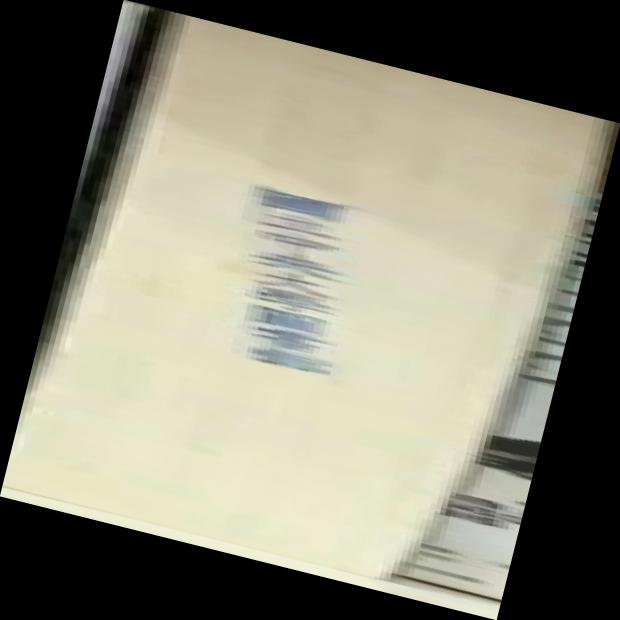backward: (1, 1, 620, 620)
